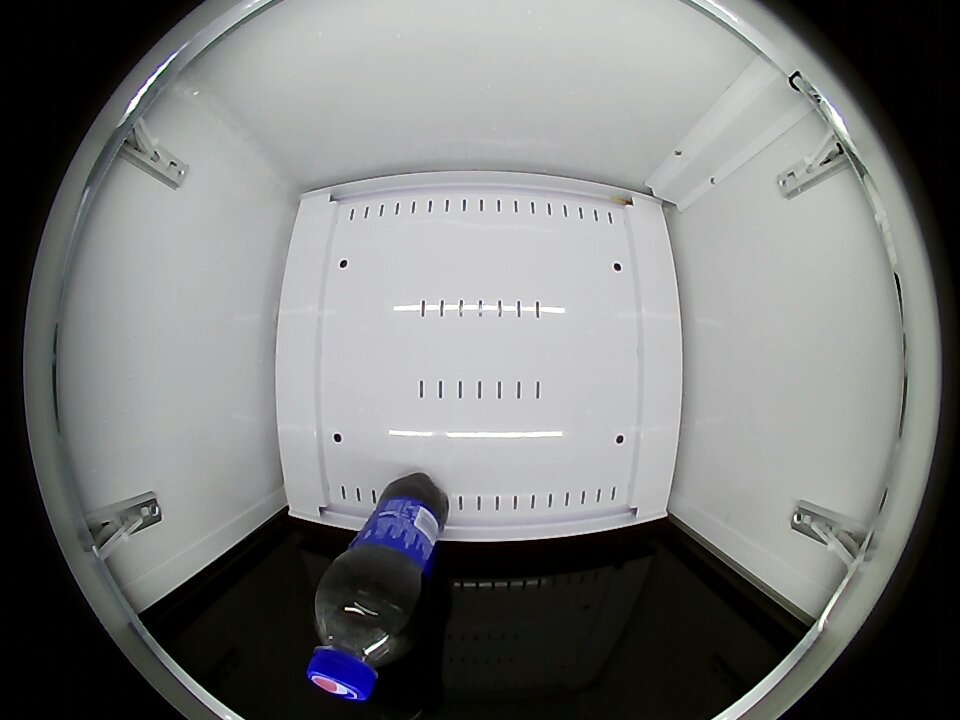baishikele-2: (307, 583, 418, 702)
